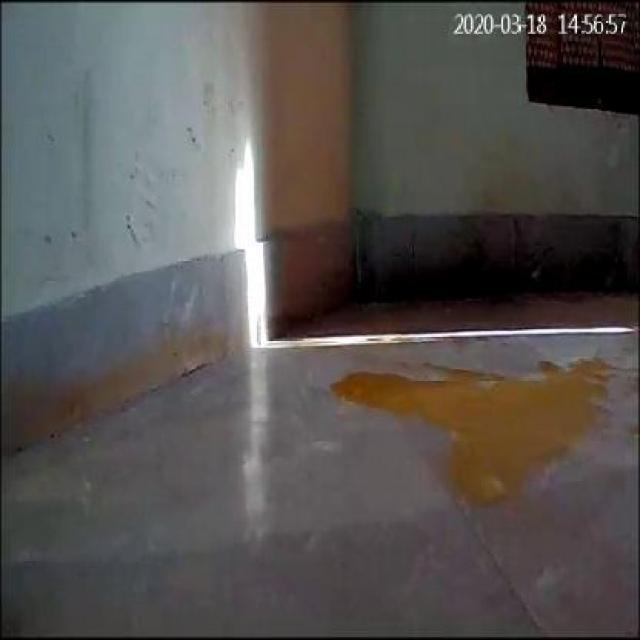spill: (328, 356, 607, 506)
